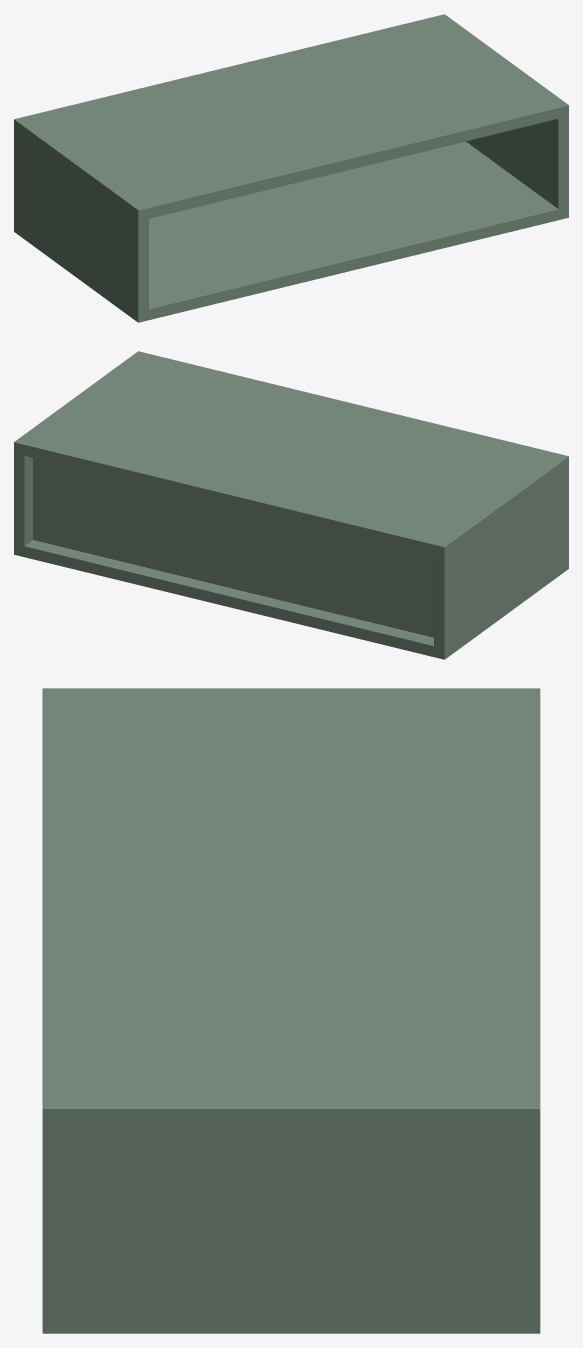
The model's file is MOD_2X05_A_B_VA.glb.
3 views of the same model, one above another, from view 1: azimuth 30°, elevation 25°; view 2: azimuth 150°, elevation 25°; view 3: azimuth 270°, elevation 25° (orthographic). The views are drawn at different scales.
Size of the model in its own units: 720 by 180 by 360.
